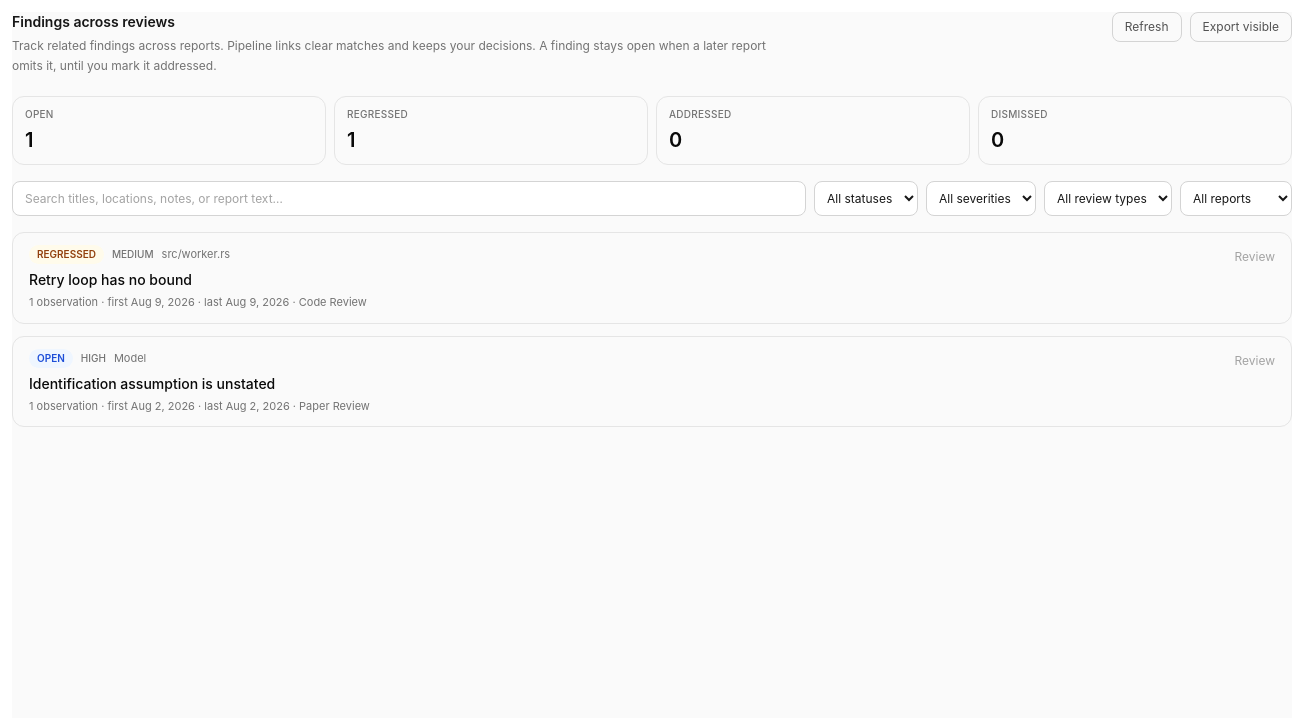
Test: ProjectIssueLedgerPanel › resets a saved draft to the stored note so Save note turns off
Click the button with aria-label "Review Identification assumption is unstated" at x=51, y=358, box [13, 336, 1291, 426]
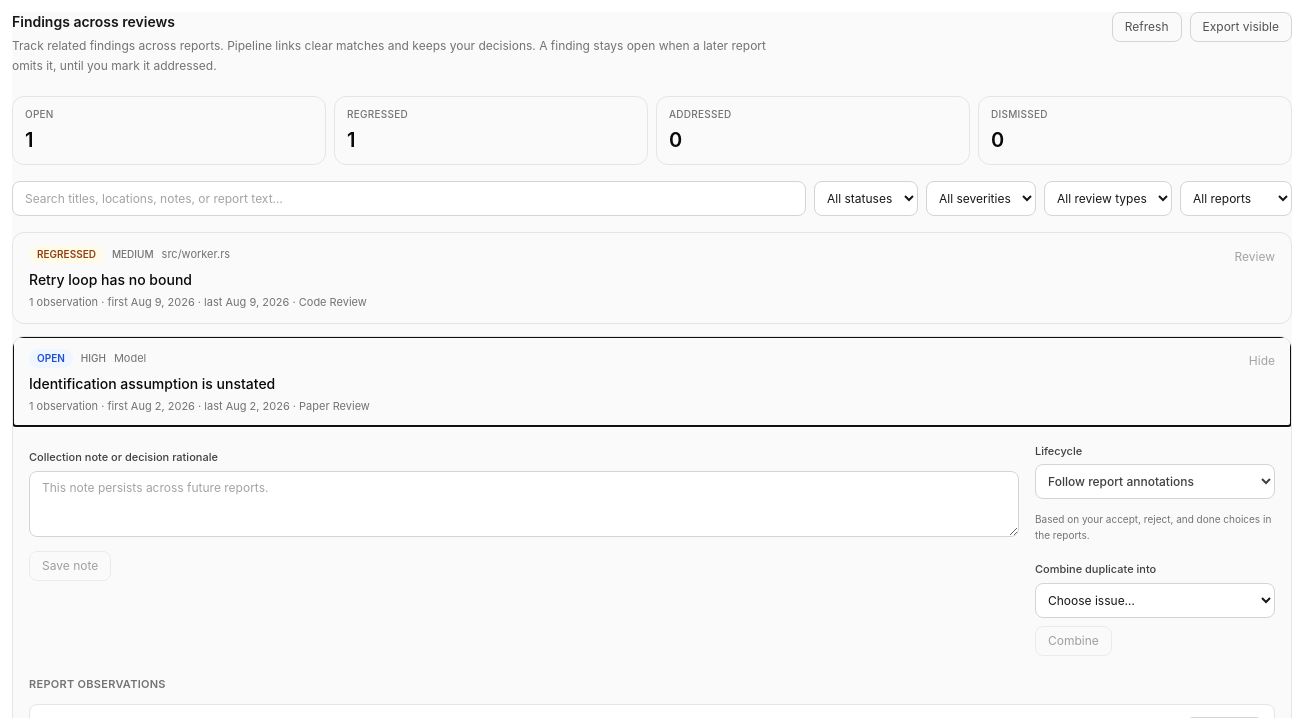
Type "Check the appendix.  " into the text box labelled "Collection note or decision rationale" at x=524, y=504, box [29, 471, 1019, 537]
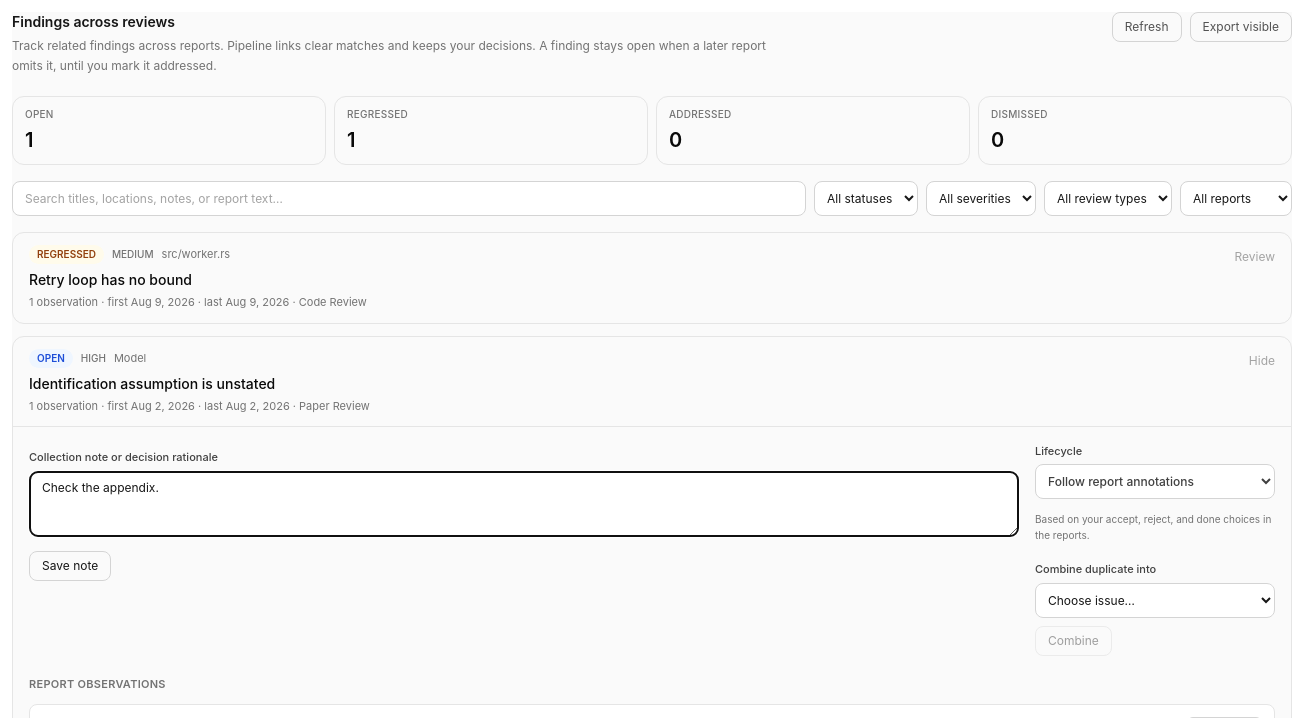
Click the button "Save note" at x=70, y=566, box [29, 551, 111, 581]
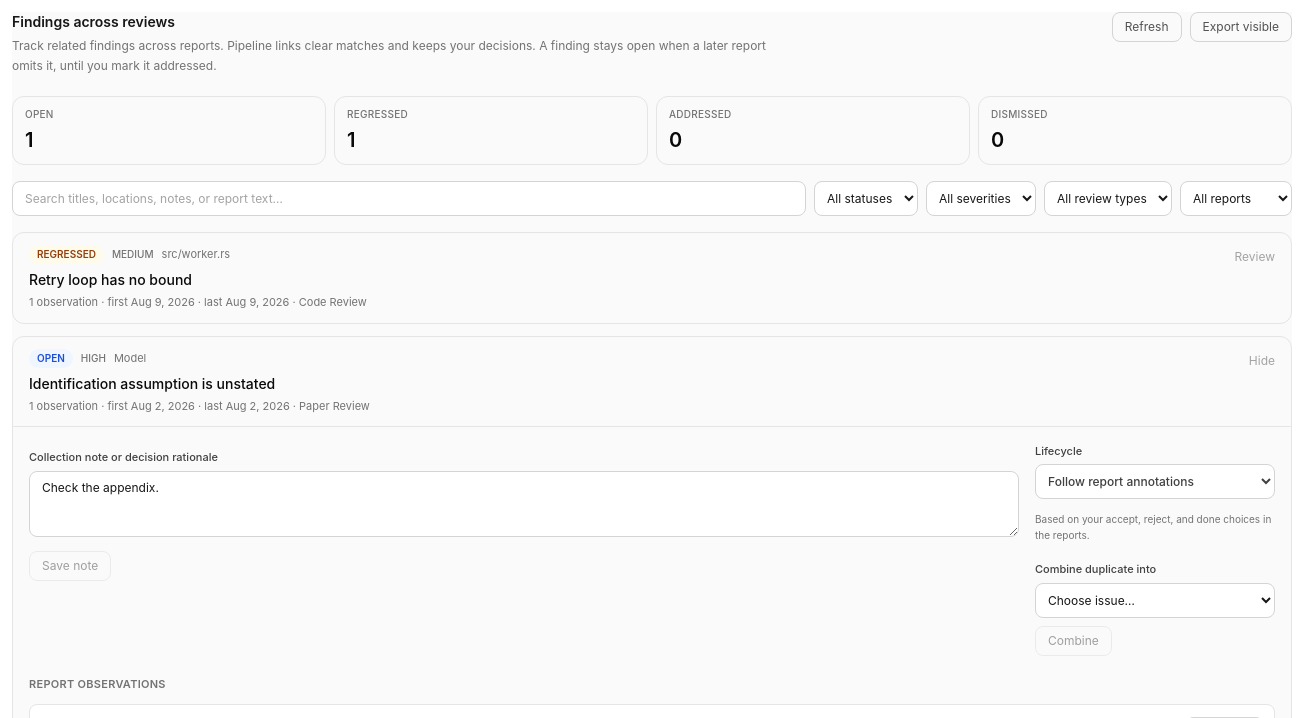
Result: the button "Save note" is disabled at [29, 551, 111, 581]
